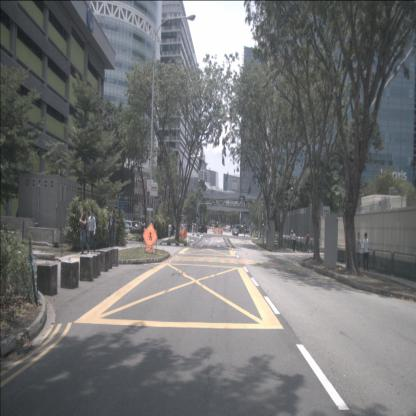barrier: (37, 262, 58, 295), (60, 258, 78, 288), (79, 254, 94, 282), (88, 252, 101, 276), (96, 249, 109, 272), (101, 249, 113, 270), (108, 248, 118, 267)
